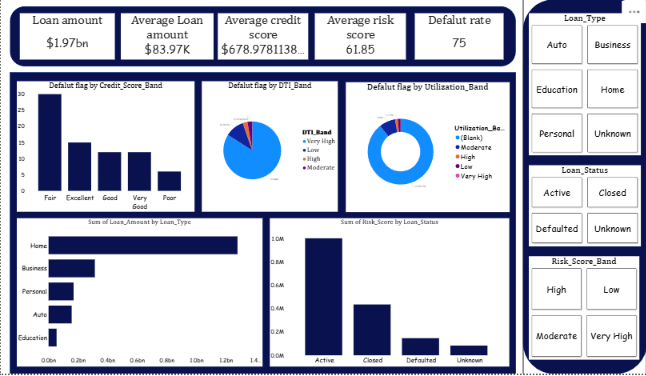

This screenshot's page, from the dashboard's own definition file:
{"tool":"powerbi","page":{"name":"Page 3Credit Risk & Loan Analysis","canvas":[3800,2200],"ordinal":2},"visuals":[{"type":"shape","box":[50,40.9,2977.3,354.5],"z":3005},{"type":"shape","box":[3068.2,0,731.8,2204.5],"z":3006},{"type":"shape","box":[50,431.8,2977.3,2159.1],"z":3007},{"type":"card","title":"Loan amount ","fields":{"Values":["Sum(fintech_banking_analytics banking_data.Loan_Amount)"]},"box":[109.1,81.8,559.1,272.7],"z":3008},{"type":"card","title":"Average Loan amount ","fields":{"Values":["Avg(fintech_banking_analytics banking_data.Loan_Amount)"]},"box":[704.5,81.8,545.5,272.7],"z":3009},{"type":"card","title":"Average credit score  ","fields":{"Values":["Avg(fintech_banking_analytics banking_data.Credit_Score)"]},"box":[1277.3,81.8,531.8,272.7],"z":3010},{"type":"card","title":"Average risk score","fields":{"Values":["Avg(fintech_banking_analytics customer_summary.Risk_Score)"]},"box":[1845.5,81.8,536.4,272.7],"z":3011},{"type":"card","title":"Defalut rate","fields":{"Values":["fintech_banking_analytics banking_data.Defalut flag"]},"box":[2436.4,81.8,522.7,272.7],"z":3012},{"type":"clusteredColumnChart","fields":{"Category":["fintech_banking_analytics banking_data.Credit_Score_Band"],"Y":["fintech_banking_analytics banking_data.Defalut flag"]},"box":[95.5,481.8,1045.5,768.2],"z":3013},{"type":"clusteredBarChart","fields":{"Category":["fintech_banking_analytics banking_data.Loan_Type"],"Y":["Sum(fintech_banking_analytics banking_data.Loan_Amount)"]},"box":[95.5,1290.9,1445.5,872.7],"z":3014},{"type":"donutChart","fields":{"Category":["fintech_banking_analytics banking_data.Utilization_Band"],"Y":["fintech_banking_analytics banking_data.Defalut flag"]},"box":[2027.3,486.4,963.6,763.6],"z":3015},{"type":"pieChart","fields":{"Category":["fintech_banking_analytics banking_data.DTI_Band"],"Y":["fintech_banking_analytics banking_data.Defalut flag"]},"box":[1181.8,481.8,800,768.2],"z":3016},{"type":"clusteredColumnChart","fields":{"Category":["fintech_banking_analytics banking_data.Loan_Status"],"Y":["Sum(fintech_banking_analytics banking_data.Risk_Score)"]},"box":[1581.8,1290.9,1409.1,872.7],"z":3018},{"type":"advancedSlicerVisual","fields":{"Values":["fintech_banking_analytics banking_data.Loan_Type"]},"box":[3104.5,81.8,659.1,836.4],"z":3019},{"type":"advancedSlicerVisual","fields":{"Values":["fintech_banking_analytics banking_data.Risk_Score_Band"]},"box":[3104.5,1513.6,650,609.1],"z":3021},{"type":"advancedSlicerVisual","fields":{"Values":["fintech_banking_analytics banking_data.Loan_Status"]},"box":[3104.5,977.3,659.1,477.3],"z":3022}]}

Visuals, with their boxes in screenshot pixels (x1, y1, x2, y2), scaled from the page's 3800x2200 canvas onto the 646x376 screenshot:
shape: select_region(8, 7, 515, 68)
shape: select_region(522, 0, 645, 375)
shape: select_region(8, 74, 515, 375)
"Loan amount " card: select_region(19, 14, 114, 61)
"Average Loan amount " card: select_region(120, 14, 213, 61)
"Average credit score  " card: select_region(217, 14, 308, 61)
"Average risk score" card: select_region(314, 14, 405, 61)
"Defalut rate" card: select_region(414, 14, 503, 61)
clusteredColumnChart - fintech_banking_analytics banking_data.Credit_Score_Band x fintech_banking_analytics banking_data.Defalut flag: select_region(16, 82, 194, 214)
clusteredBarChart - fintech_banking_analytics banking_data.Loan_Type x Sum(fintech_banking_analytics banking_data.Loan_Amount): select_region(16, 221, 262, 370)
donutChart - fintech_banking_analytics banking_data.Utilization_Band x fintech_banking_analytics banking_data.Defalut flag: select_region(345, 83, 508, 214)
pieChart - fintech_banking_analytics banking_data.DTI_Band x fintech_banking_analytics banking_data.Defalut flag: select_region(201, 82, 337, 214)
clusteredColumnChart - fintech_banking_analytics banking_data.Loan_Status x Sum(fintech_banking_analytics banking_data.Risk_Score): select_region(269, 221, 508, 370)
advancedSlicerVisual - fintech_banking_analytics banking_data.Loan_Type: select_region(528, 14, 640, 157)
advancedSlicerVisual - fintech_banking_analytics banking_data.Risk_Score_Band: select_region(528, 259, 638, 363)
advancedSlicerVisual - fintech_banking_analytics banking_data.Loan_Status: select_region(528, 167, 640, 249)
